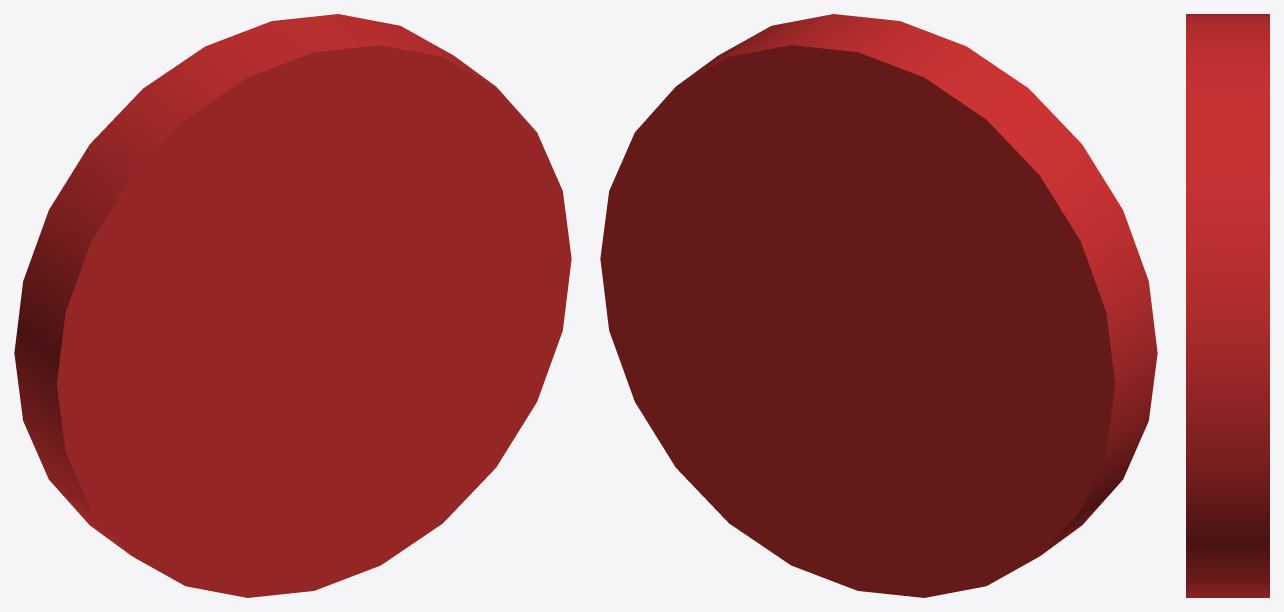
File: original-7.obj
3 renders of one model, left to right at view 1: azimuth 30°, elevation 25°; view 2: azimuth 150°, elevation 25°; view 3: azimuth 270°, elevation 25°, orthographic.
Parts seen in each view (by area): view 1: Group8/mesh11/mesh11-geometry#mesh11-geometry; view 2: Group8/mesh11/mesh11-geometry#mesh11-geometry; view 3: Group8/mesh11/mesh11-geometry#mesh11-geometry.
Boxes of the visible parts, x1=… form: Group8/mesh11/mesh11-geometry#mesh11-geometry: x1=14, y1=14, x2=571, y2=597; Group8/mesh11/mesh11-geometry#mesh11-geometry: x1=600, y1=14, x2=1157, y2=597; Group8/mesh11/mesh11-geometry#mesh11-geometry: x1=1186, y1=14, x2=1269, y2=597.
Bounding box in the file's own units: 0.0361 × 0.0361 × 0.00516.
